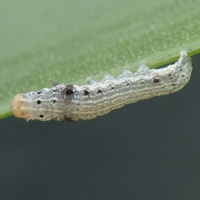insect: (12, 50, 191, 120)
